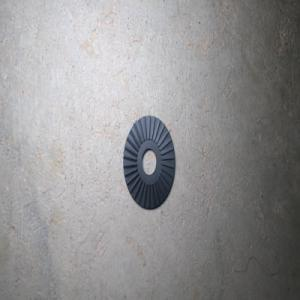Washer: (123, 115, 175, 209)
